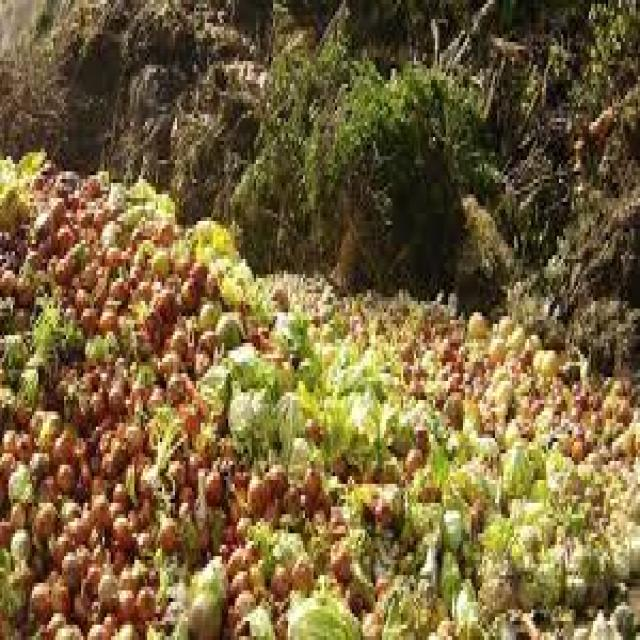food_waste: (16, 271, 624, 622), (27, 172, 242, 603)
